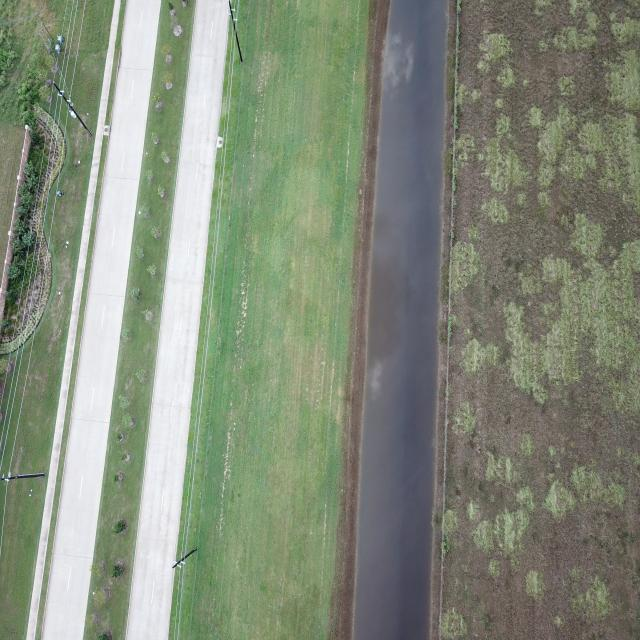fire: (353, 0, 448, 640)
